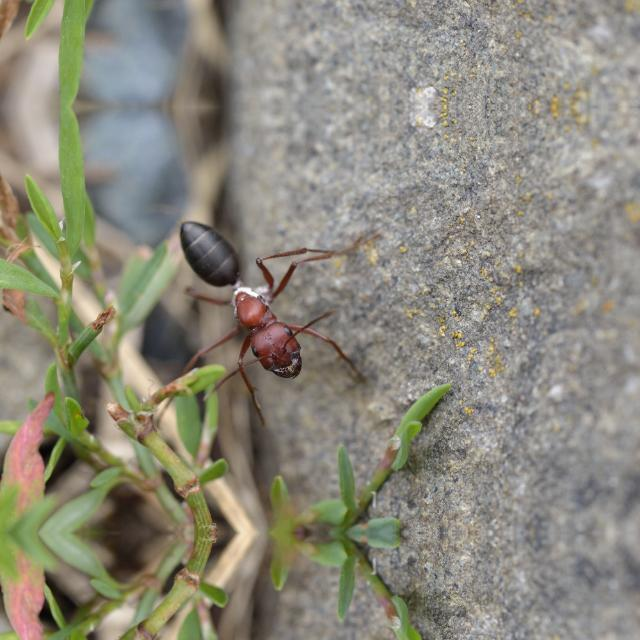Cataglyphis: (144, 202, 360, 398)
